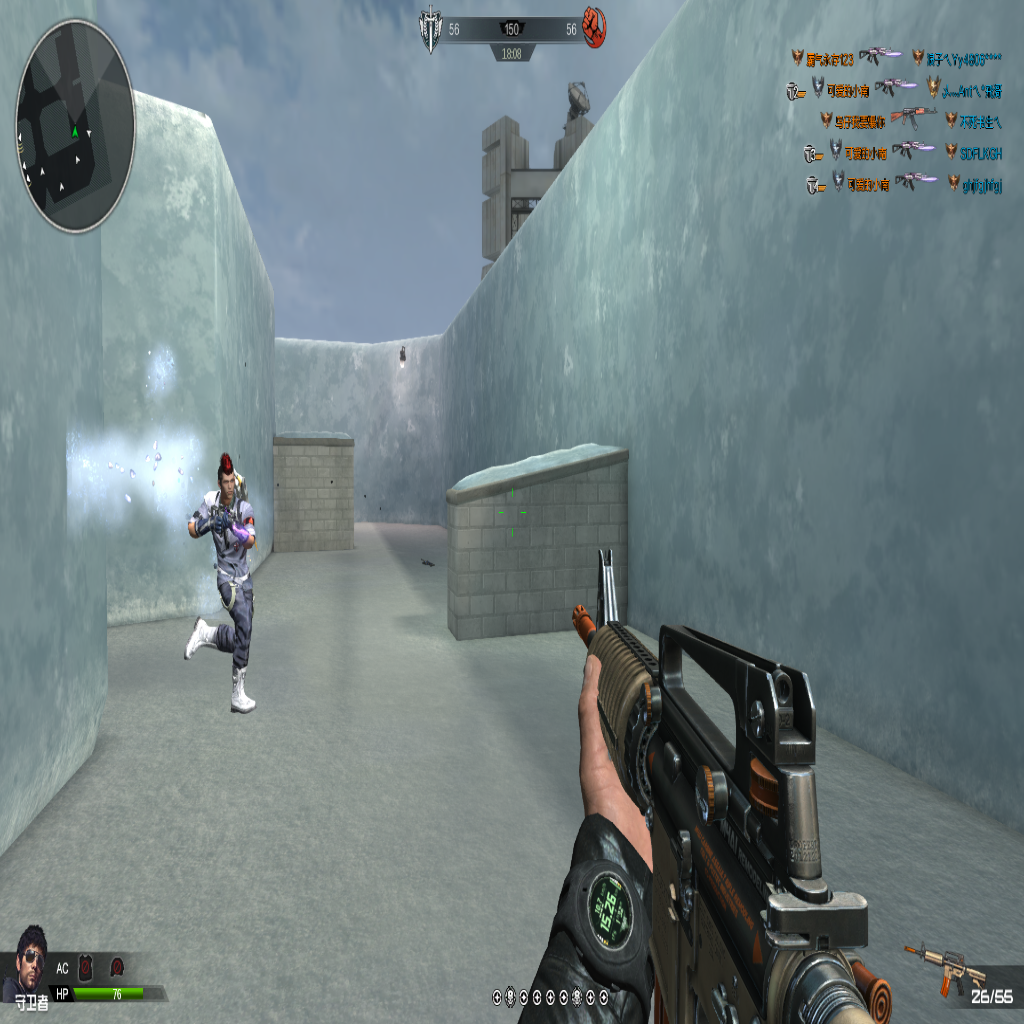tt: (182, 450, 261, 710)
